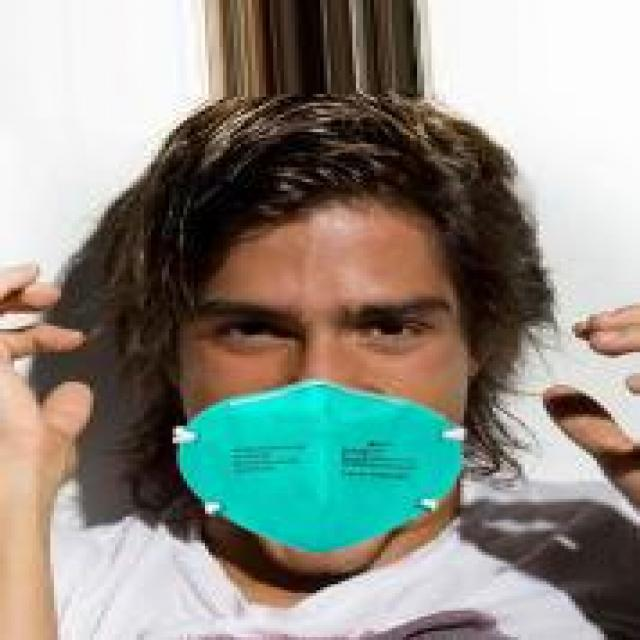mask: (115, 106, 550, 549)
